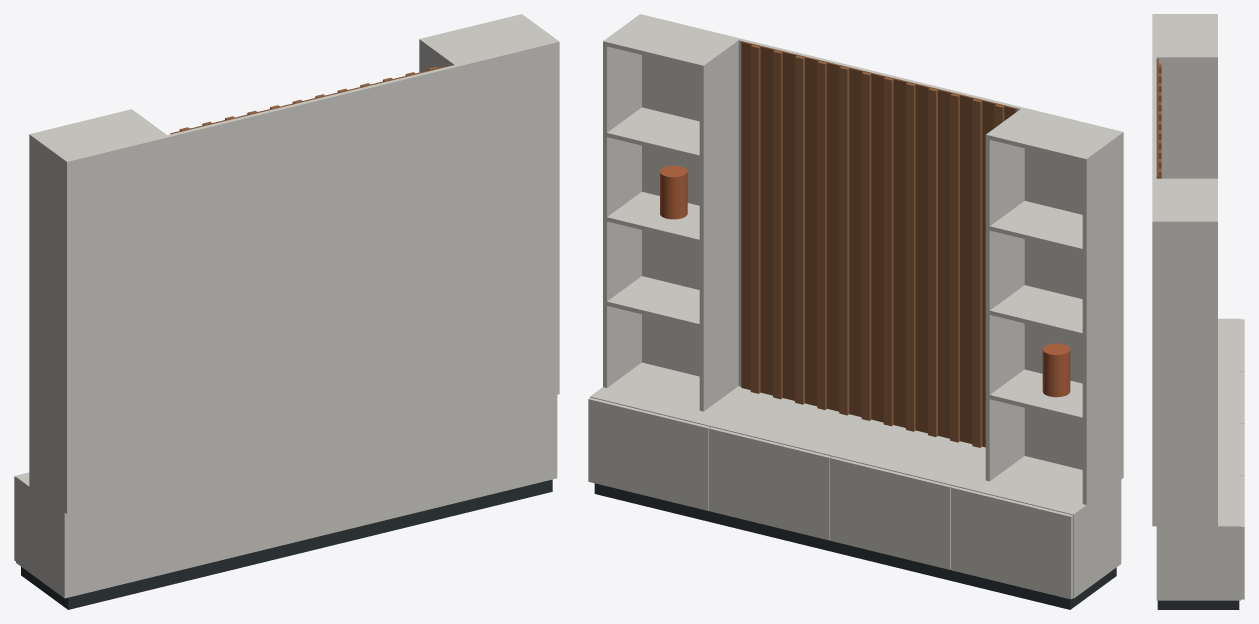
3 renders of one model, left to right at view 1: azimuth 30°, elevation 25°; view 2: azimuth 150°, elevation 25°; view 3: azimuth 270°, elevation 25°, orthographic. The views are drawn at different scales.
Parts seen in each view (by area): view 1: carcass, plinth; view 2: carcass, panel, flute-1, plinth, vase-left; view 3: carcass, plinth, flute-1, panel.
Part boxes in pixels (left/top/right/bottom): carcass: left=14, top=14, right=559, bottom=598; plinth: left=21, top=479, right=552, bottom=609; carcass: left=588, top=14, right=1123, bottom=599; panel: left=741, top=41, right=1016, bottom=447; flute-1: left=750, top=45, right=1004, bottom=447; plinth: left=594, top=483, right=1116, bottom=609; vase-left: left=660, top=165, right=1070, bottom=397; carcass: left=1152, top=14, right=1244, bottom=600; plinth: left=1157, top=600, right=1239, bottom=609; flute-1: left=1158, top=63, right=1161, bottom=178; panel: left=1156, top=59, right=1158, bottom=178.
Bounding box in the file's own units: 2.4 × 2.1 × 0.45.
